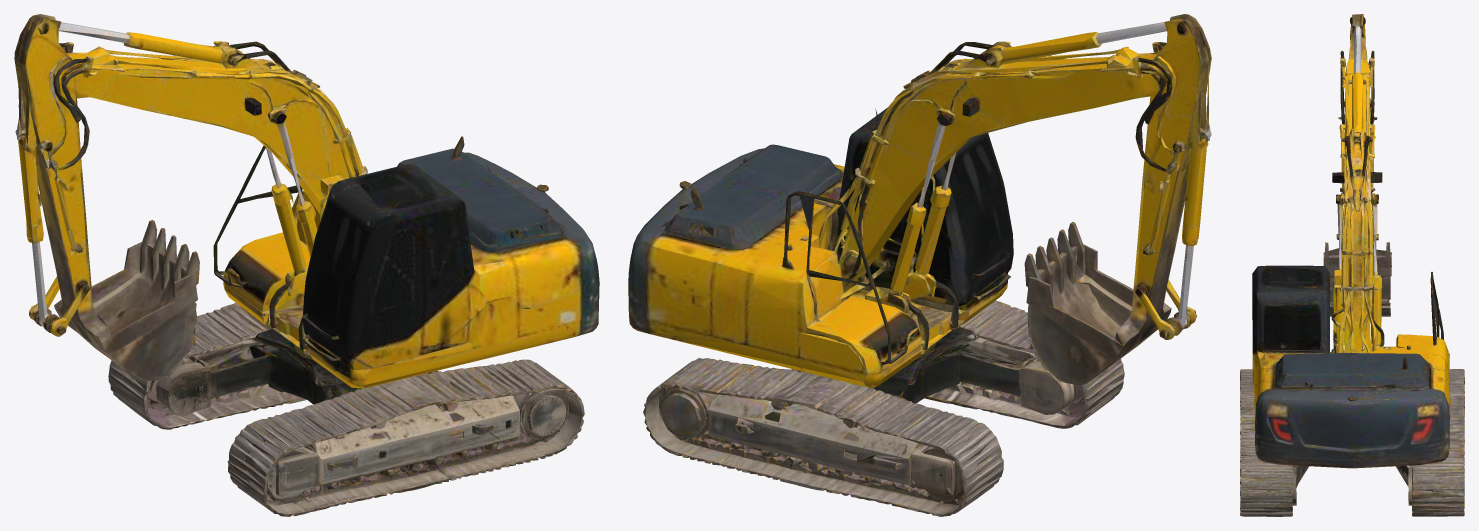
Rendered from excavator.glb.
The picture shows the model from 3 angles, left to right: view 1: azimuth 30°, elevation 25°; view 2: azimuth 150°, elevation 25°; view 3: azimuth 270°, elevation 25°; orthographic projection. The views are drawn at different scales.
Size of the model in its own units: 1.9 by 1.65 by 0.9611.
1 material, 1 textured.
